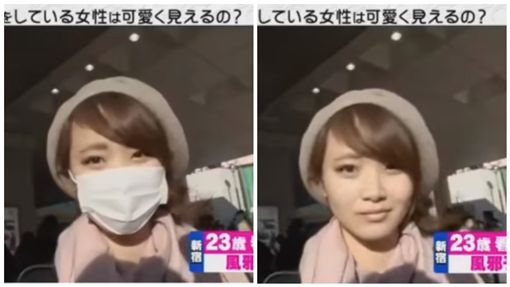mask: (76, 170, 168, 233)
